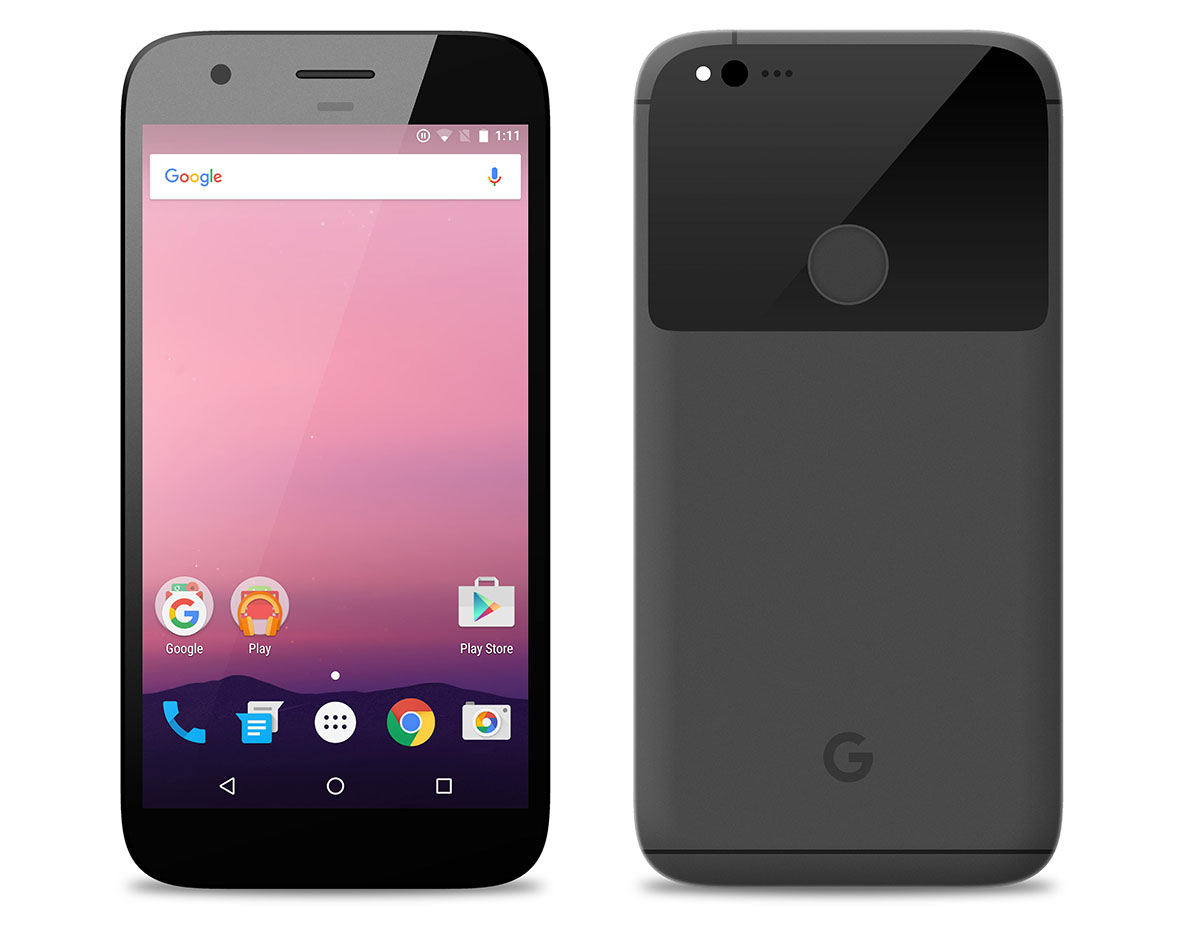smartphone: (119, 30, 551, 891), (632, 29, 1065, 887)
